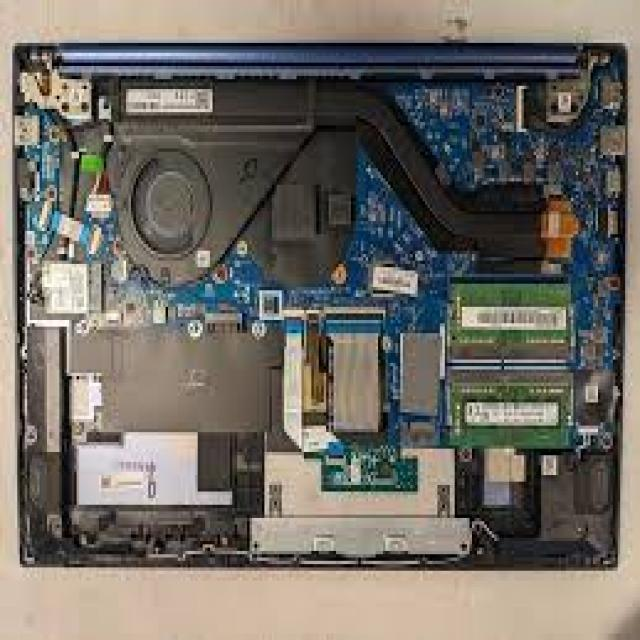SSD: (33, 254, 112, 324)
